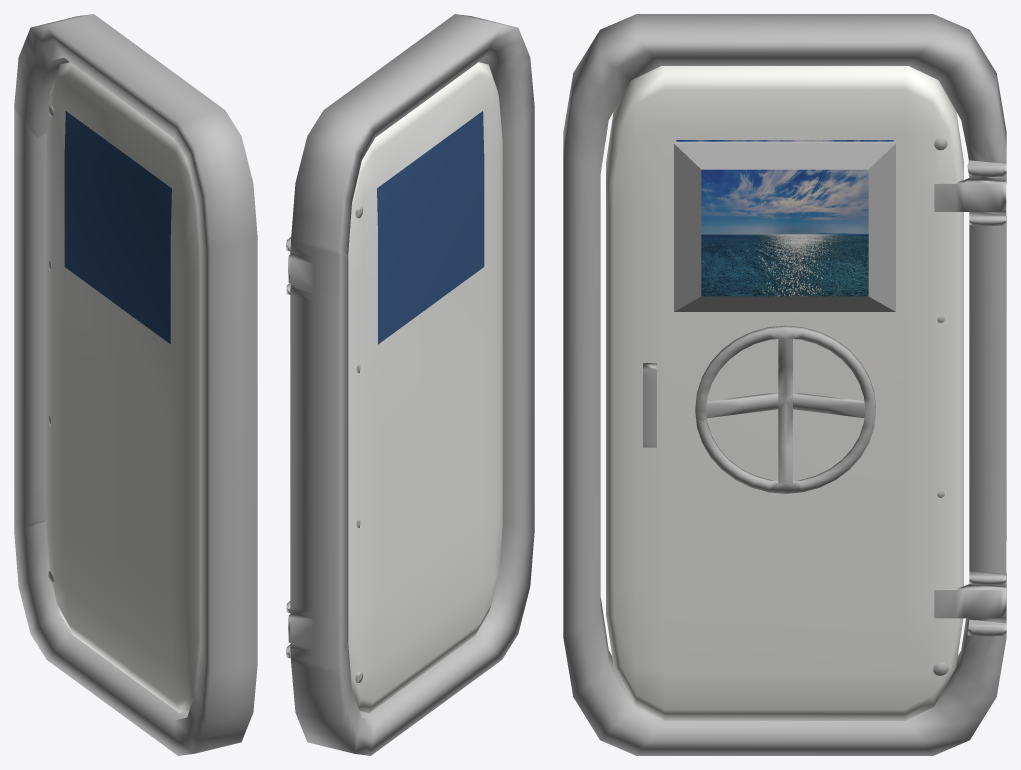
Rendered from Porta.fbx.
3 renders of one model, left to right at view 1: azimuth 30°, elevation 25°; view 2: azimuth 150°, elevation 25°; view 3: azimuth 270°, elevation 25°, orthographic. The views are drawn at different scales.
Visible parts, largest first — view 1: Cube.003, Cube.009; view 2: Cube.003, Cube.009; view 3: Cube.003, Cube.009, Plane, Cube.005, Circle, Cube.001.
Boxes of the visible parts, box(x1,y1,x2,y2) form: Cube.003: box(46, 62, 200, 712); Cube.009: box(14, 14, 257, 755); Cube.003: box(348, 62, 502, 713); Cube.009: box(286, 14, 534, 755); Cube.003: box(606, 66, 963, 720); Cube.009: box(563, 14, 1006, 755); Plane: box(676, 140, 893, 296); Cube.005: box(674, 141, 895, 311); Circle: box(695, 325, 875, 493); Cube.001: box(643, 363, 656, 447).
Bounding box in the file's own units: 53.84 × 441 × 248.
